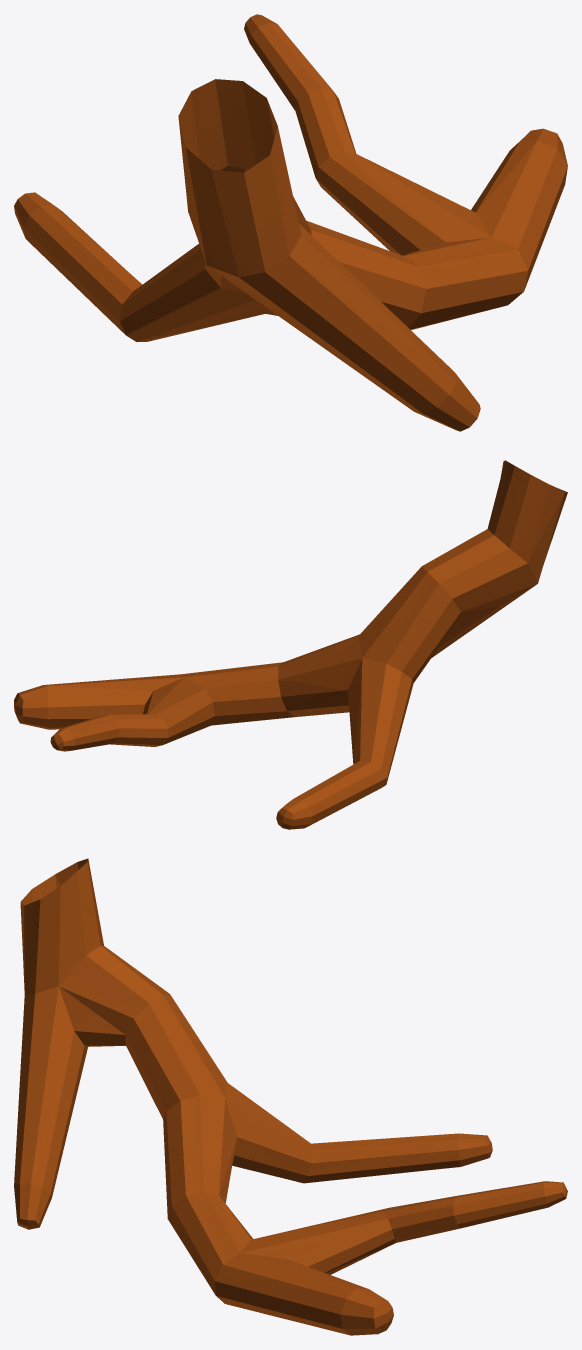
Rendered from F_Branch_0_0.fbx.
The picture shows the model from 3 angles, top to bottom: view 1: azimuth 30°, elevation 25°; view 2: azimuth 150°, elevation 25°; view 3: azimuth 270°, elevation 25°; orthographic projection. The views are drawn at different scales.
Parts seen in each view (by area): view 1: F_Branch_0_0; view 2: F_Branch_0_0; view 3: F_Branch_0_0.
Part boxes in pixels (bbox=[...]): F_Branch_0_0: bbox=[14, 14, 567, 431]; F_Branch_0_0: bbox=[14, 460, 567, 829]; F_Branch_0_0: bbox=[14, 858, 567, 1335].
Size of the model in its own units: 108 by 68.81 by 115.
Materials: 1 (1 with a texture image).
